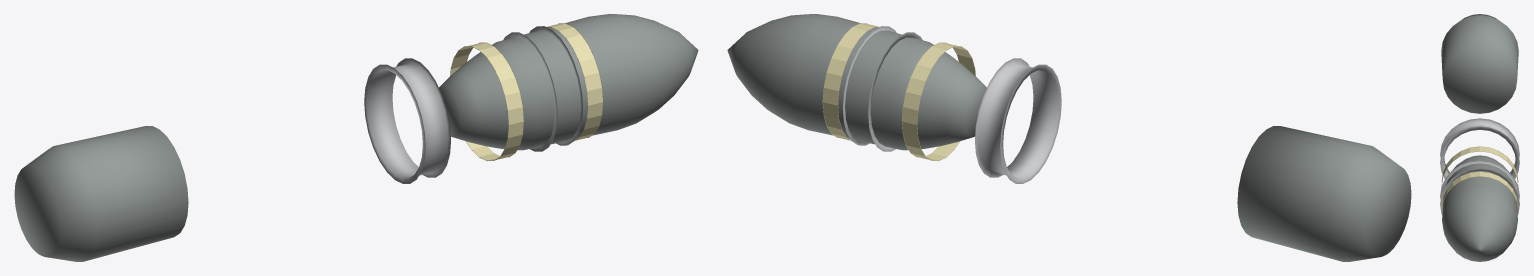
The model's file is CN_SLBM_JL2_LOD1.fbx.
3 views of the same model, side by side, from view 1: azimuth 30°, elevation 25°; view 2: azimuth 150°, elevation 25°; view 3: azimuth 270°, elevation 25° (orthographic). The views are drawn at different scales.
Parts seen in each view (by area): view 1: WPN_CN_SLBM_JL2_LOD1_Body, WPN_CN_SLBM_JL2_LOD1_Tail, WPN_CN_SLBM_JL2_LOD1_Detail, WPN_CN_SLBM_JL2_LOD1_Marking; view 2: WPN_CN_SLBM_JL2_LOD1_Body, WPN_CN_SLBM_JL2_LOD1_Tail, WPN_CN_SLBM_JL2_LOD1_Detail, WPN_CN_SLBM_JL2_LOD1_Marking; view 3: WPN_CN_SLBM_JL2_LOD1_Tail, WPN_CN_SLBM_JL2_LOD1_Body, WPN_CN_SLBM_JL2_LOD1_Detail, WPN_CN_SLBM_JL2_LOD1_Marking.
Boxes of the visible parts, x1,y1,x2,y2 form: WPN_CN_SLBM_JL2_LOD1_Body: (439,14,698,150); WPN_CN_SLBM_JL2_LOD1_Tail: (14,126,188,261); WPN_CN_SLBM_JL2_LOD1_Detail: (364,26,583,183); WPN_CN_SLBM_JL2_LOD1_Marking: (450,23,603,161); WPN_CN_SLBM_JL2_LOD1_Body: (727,14,986,150); WPN_CN_SLBM_JL2_LOD1_Tail: (1237,126,1411,261); WPN_CN_SLBM_JL2_LOD1_Detail: (842,26,1061,183); WPN_CN_SLBM_JL2_LOD1_Marking: (822,23,975,161); WPN_CN_SLBM_JL2_LOD1_Tail: (1441,14,1518,113); WPN_CN_SLBM_JL2_LOD1_Body: (1442,155,1517,261); WPN_CN_SLBM_JL2_LOD1_Detail: (1440,118,1519,214); WPN_CN_SLBM_JL2_LOD1_Marking: (1441,146,1518,214).
Size of the model in its own units: 13 by 2.1 by 2.1.
